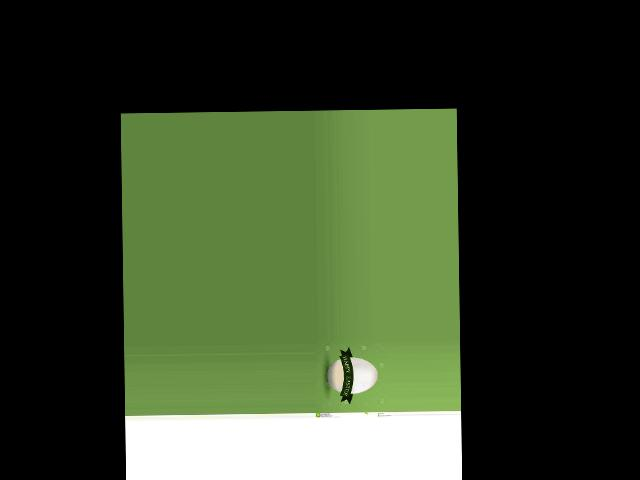egg: (327, 357, 377, 394)
